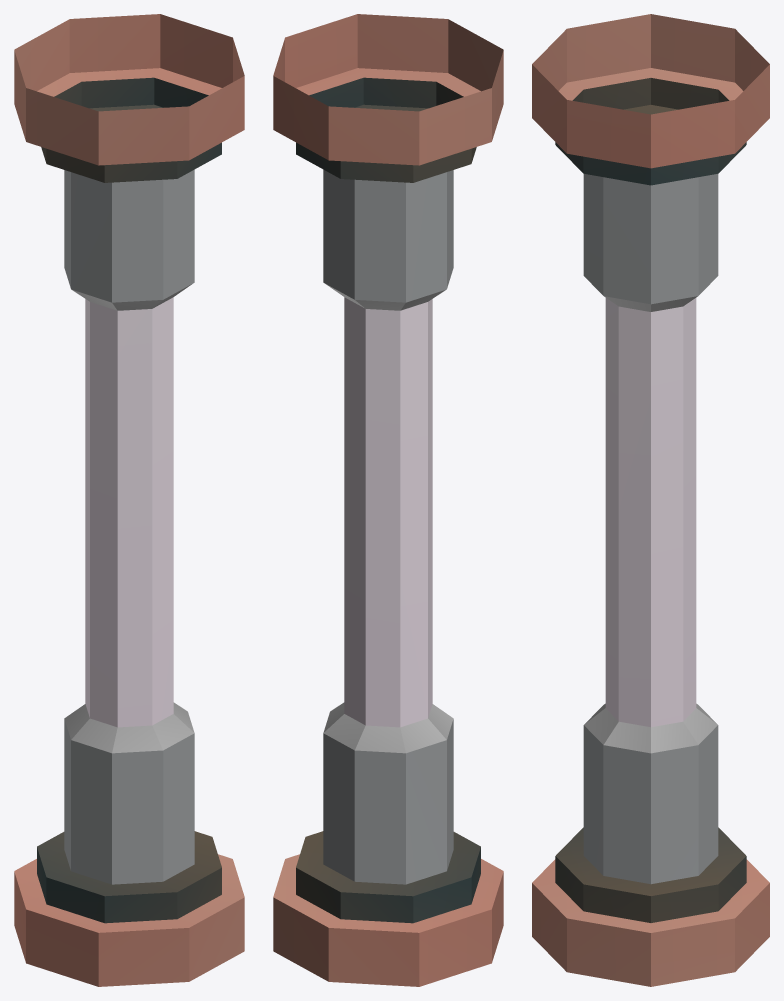
The model's file is Pipe_long.fbx.
The picture shows the model from 3 angles, left to right: view 1: azimuth 30°, elevation 25°; view 2: azimuth 150°, elevation 25°; view 3: azimuth 270°, elevation 25°; orthographic projection.
Parts seen in each view (by area): view 1: Pipe_long; view 2: Pipe_long; view 3: Pipe_long.
Boxes of the visible parts, left/top/right/bottom form: Pipe_long: left=14, top=14, right=244, bottom=986; Pipe_long: left=273, top=14, right=503, bottom=986; Pipe_long: left=532, top=14, right=769, bottom=986.
Size of the model in its own units: 32.45 by 131 by 32.45.
